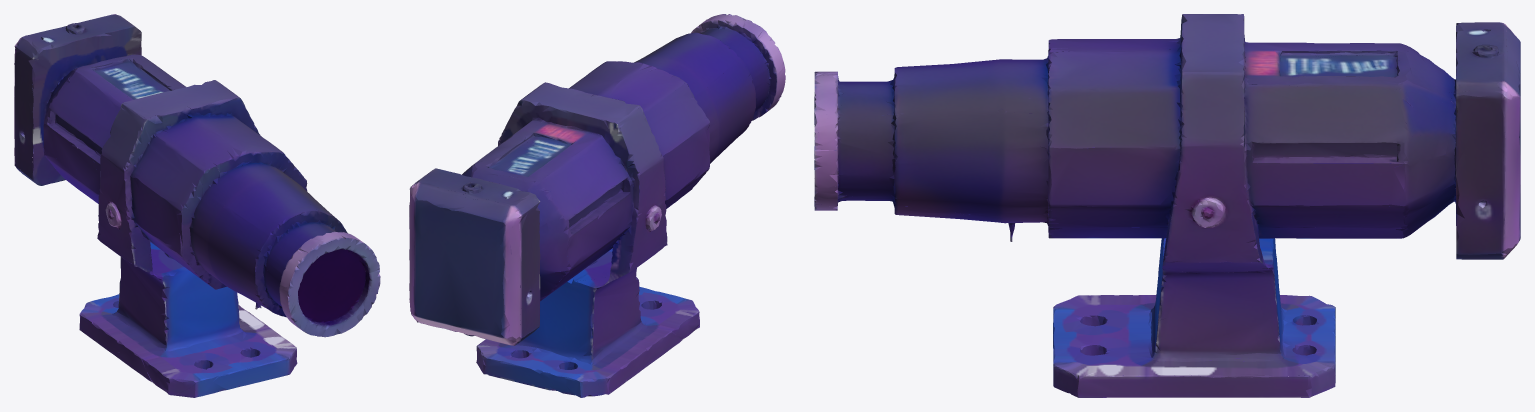
Rendered from classiclemans_rocket.glb.
The picture shows the model from 3 angles, left to right: view 1: azimuth 30°, elevation 25°; view 2: azimuth 150°, elevation 25°; view 3: azimuth 270°, elevation 25°; orthographic projection. The views are drawn at different scales.
Parts seen in each view (by area): view 1: Rocket_Classic_LeMans_x; view 2: Rocket_Classic_LeMans_x; view 3: Rocket_Classic_LeMans_x.
Boxes of the visible parts, x1,y1,x2,y2 form: Rocket_Classic_LeMans_x: (14, 14, 380, 397); Rocket_Classic_LeMans_x: (409, 14, 785, 397); Rocket_Classic_LeMans_x: (814, 14, 1520, 397).
Bounding box in the file's own units: 0.1904 × 0.2966 × 0.6037.
1 material, 1 textured.
